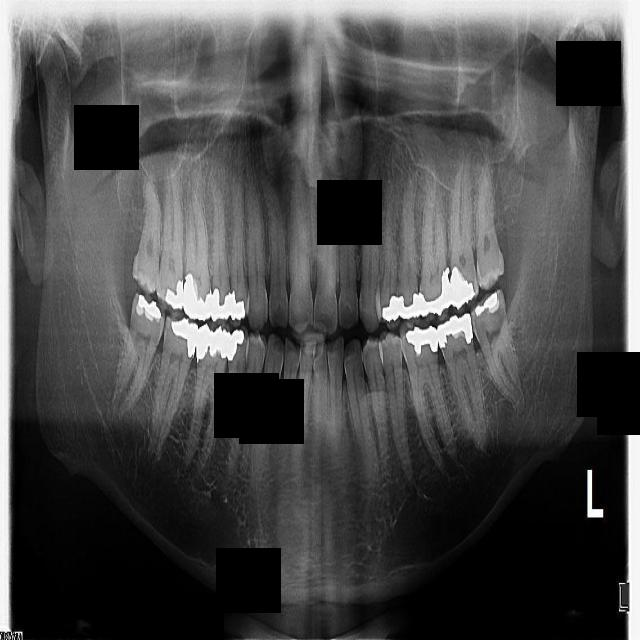NucleOSS Implant: (167, 308, 211, 359), (415, 268, 453, 317), (194, 321, 233, 364), (404, 321, 443, 360), (434, 313, 476, 349), (444, 264, 477, 308), (183, 274, 212, 321), (132, 294, 167, 325), (222, 328, 246, 364), (472, 294, 503, 321), (396, 292, 422, 321), (211, 288, 232, 323), (164, 278, 186, 310), (381, 295, 401, 323), (230, 288, 245, 320)
